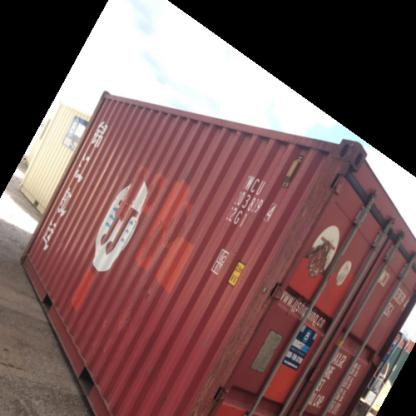Damage: (293, 144, 348, 242), (232, 248, 290, 335), (194, 339, 244, 400)
